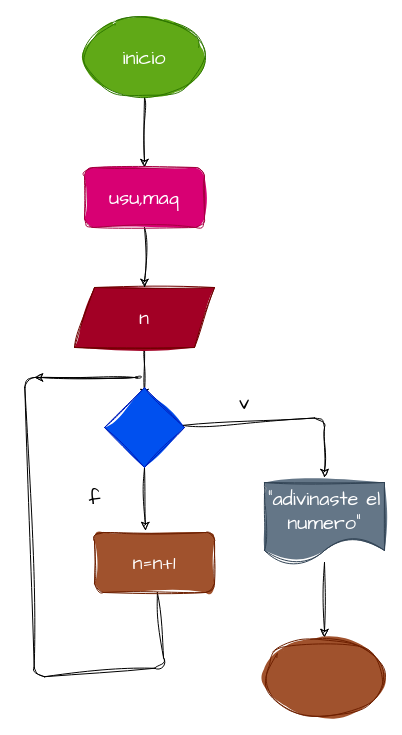
This 402x735 diagram has some shape labels left out. Each missing label, with the box of its shape:
fin: (264, 636, 384, 718)
usu==maq: (104, 386, 184, 468)
